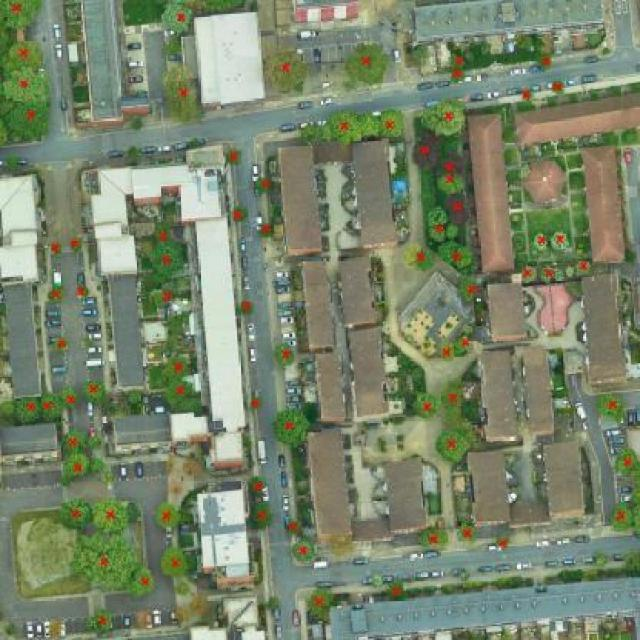tree: (74, 534, 137, 591), (159, 66, 207, 125), (264, 42, 310, 95), (0, 69, 51, 106), (345, 44, 390, 85), (11, 100, 51, 143), (424, 98, 467, 136), (92, 496, 130, 536), (148, 243, 188, 279), (273, 407, 310, 445), (436, 426, 473, 463), (4, 39, 45, 70), (425, 205, 460, 241), (0, 0, 40, 31), (441, 379, 465, 430), (437, 238, 475, 270), (326, 111, 363, 143), (413, 125, 439, 170), (60, 498, 95, 531), (307, 585, 341, 618), (593, 392, 629, 423), (400, 242, 435, 273), (128, 566, 159, 600), (160, 0, 191, 34), (155, 550, 191, 576), (446, 189, 469, 226), (17, 394, 43, 425), (166, 310, 186, 350), (610, 501, 635, 533), (413, 392, 442, 419), (160, 357, 194, 380), (406, 43, 437, 68), (154, 502, 181, 530), (89, 606, 116, 634), (183, 0, 246, 12), (379, 109, 405, 138), (434, 171, 466, 194), (165, 380, 193, 406), (299, 121, 330, 144), (418, 526, 450, 548), (149, 282, 178, 306), (64, 450, 88, 478), (615, 447, 639, 475), (437, 153, 466, 176), (457, 270, 478, 301), (328, 535, 359, 556), (153, 219, 175, 248), (42, 390, 62, 421), (455, 521, 479, 545), (60, 430, 86, 452), (456, 323, 473, 355), (254, 501, 274, 528), (359, 112, 381, 136), (83, 380, 106, 402), (260, 592, 282, 614), (135, 609, 156, 631), (61, 388, 81, 411), (178, 399, 205, 416), (294, 538, 314, 560), (552, 229, 572, 251), (519, 262, 539, 284), (275, 344, 293, 368), (124, 501, 141, 525), (174, 605, 191, 629), (254, 176, 275, 195), (0, 396, 18, 418), (510, 33, 533, 50), (2, 154, 21, 174), (439, 342, 458, 362), (0, 111, 11, 145), (386, 580, 406, 598), (532, 230, 550, 250), (191, 594, 208, 615), (250, 476, 265, 499), (237, 298, 255, 317), (574, 259, 594, 276), (536, 53, 553, 73), (543, 262, 557, 284), (126, 388, 143, 406), (225, 147, 242, 165), (515, 160, 532, 178), (592, 551, 610, 568), (89, 458, 106, 475), (449, 68, 466, 85), (232, 205, 250, 221), (477, 38, 492, 57), (74, 286, 91, 302), (52, 335, 68, 352), (285, 517, 301, 534), (551, 78, 566, 96), (175, 581, 191, 597), (449, 54, 466, 69), (496, 532, 510, 550), (48, 286, 63, 302), (521, 88, 535, 105), (462, 49, 478, 63), (49, 242, 63, 256), (89, 436, 103, 450), (259, 223, 273, 237), (456, 568, 472, 580), (554, 265, 566, 281), (248, 395, 262, 408), (82, 338, 96, 350), (3, 622, 15, 636), (565, 264, 576, 279), (372, 575, 385, 587), (71, 238, 82, 251), (104, 471, 115, 483), (58, 476, 70, 485)
